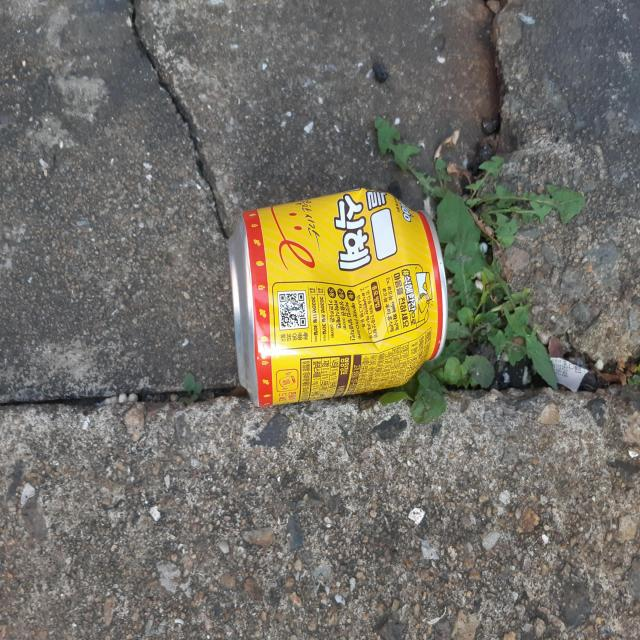can: (229, 188, 448, 406)
